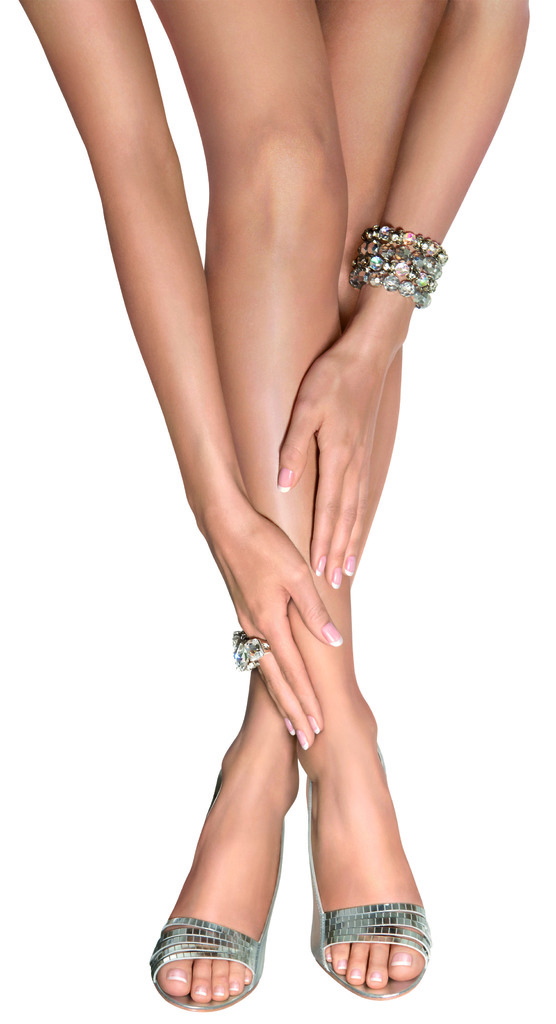Person: (18, 0, 529, 1002)
